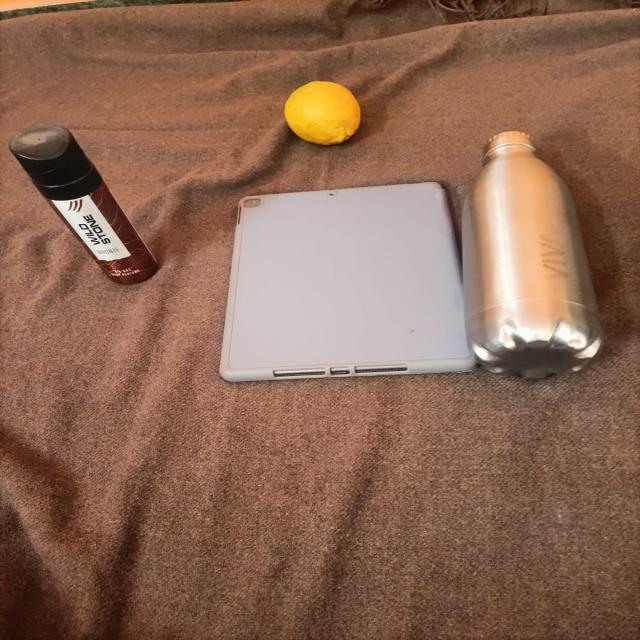bottle: (459, 114, 604, 413)
orange: (273, 79, 375, 156)
spray: (0, 117, 177, 321)
tablet: (202, 170, 473, 393)
